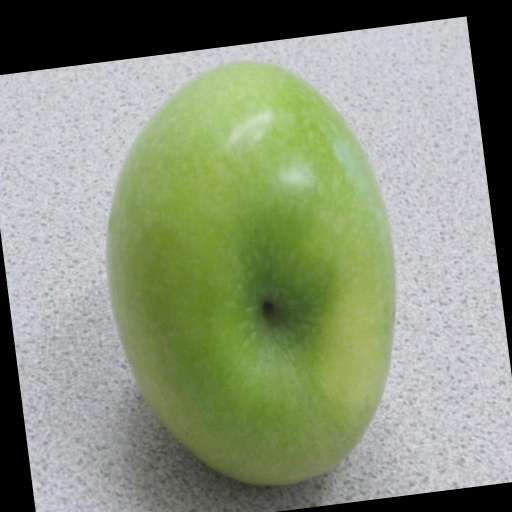fruit: (107, 62, 395, 485)
